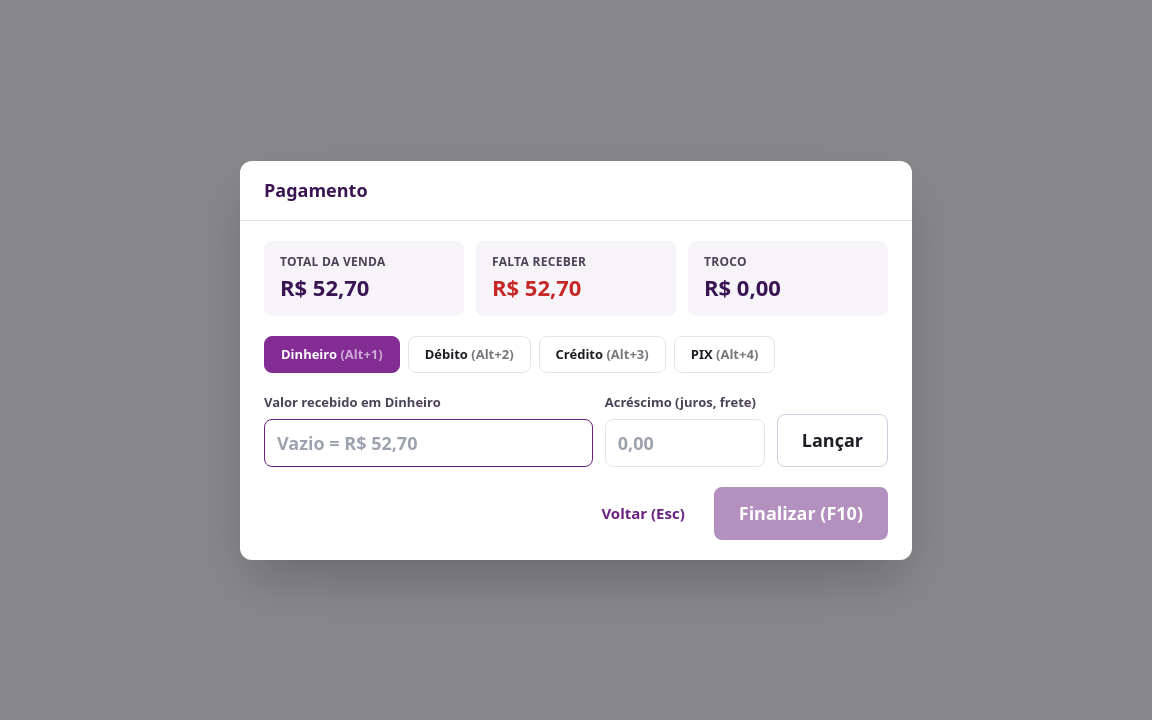
Test: um código de barras no campo de valor não vira dinheiro › em débito com maquininha integrada: a cobrança NÃO vai para o PinPad
Click the button "Débito (Alt+2)".
click(469, 354)  # box [408,336,531,373]
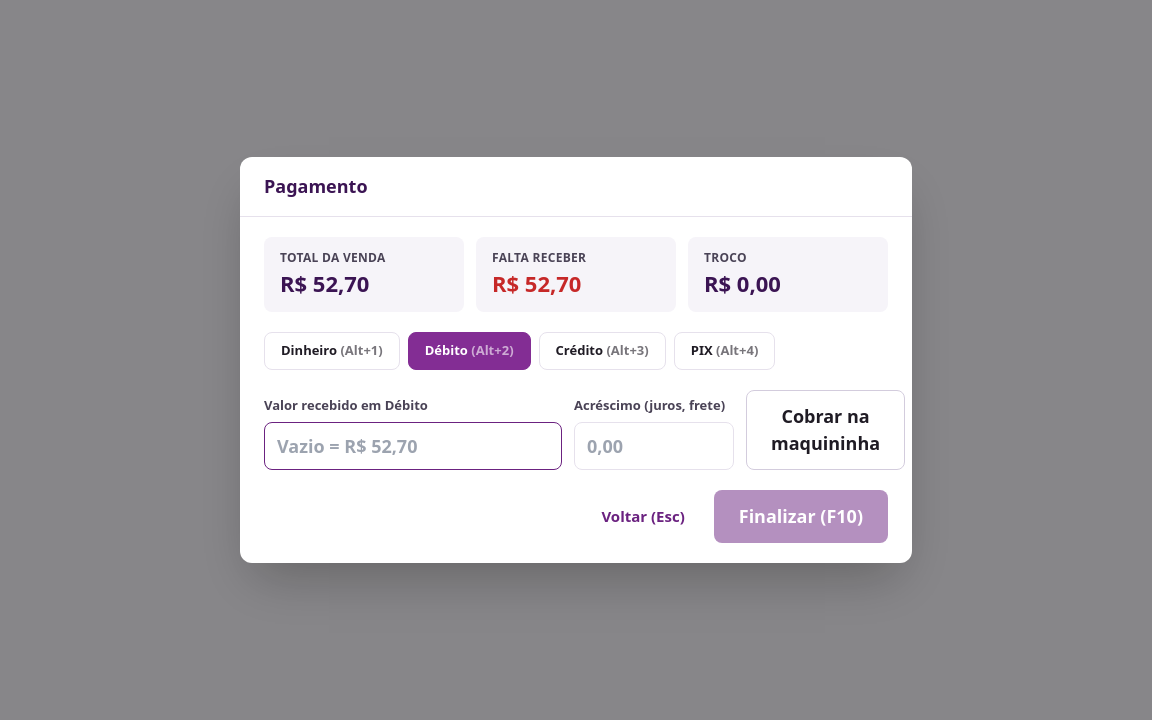
expect the button "Cobrar na maquininha" is shown: met, box [746,390,905,470]
Type "7891234567895" into the field labelled "Valor recebido em Débito".
click(413, 446); type("7891234567895")  # box [264,422,562,470]
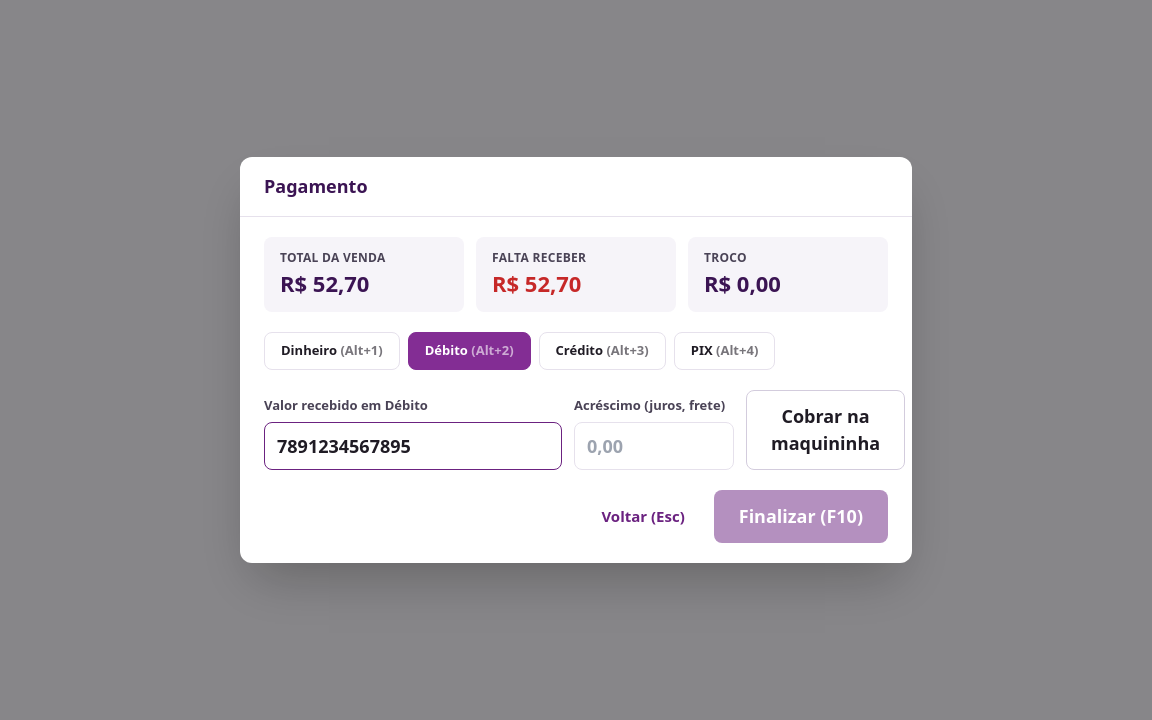
Click the button "Cobrar na maquininha".
click(826, 430)  # box [746,390,905,470]
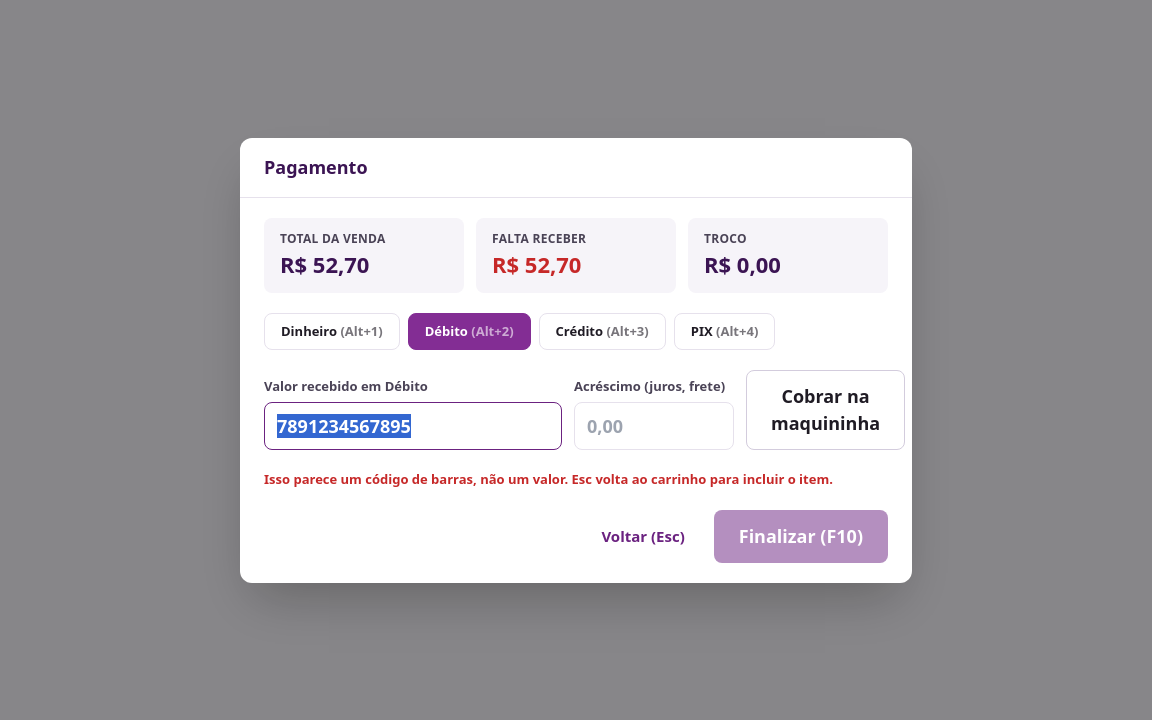
expect the message with test id "pagamento-aviso" is shown: met, box [264,470,888,490]
